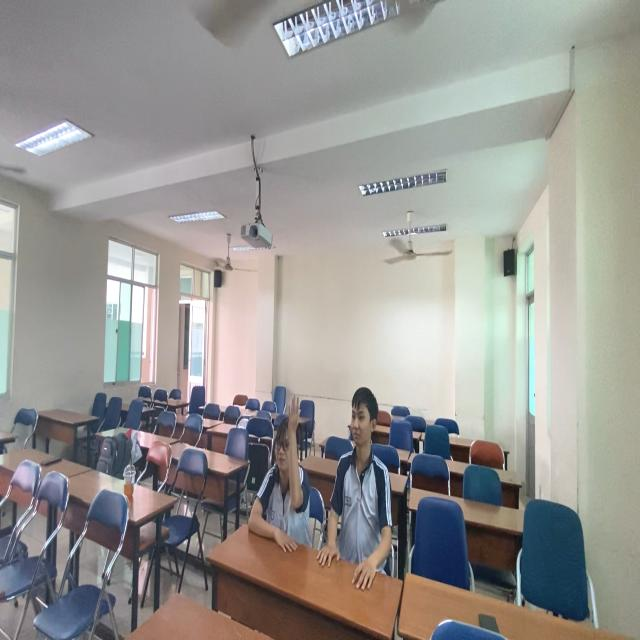raise_hand: (246, 390, 316, 559)
